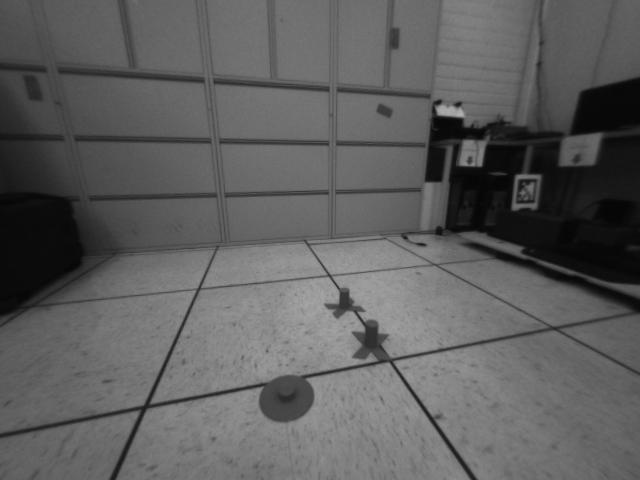X: (351, 319, 392, 364), (323, 286, 368, 320)
